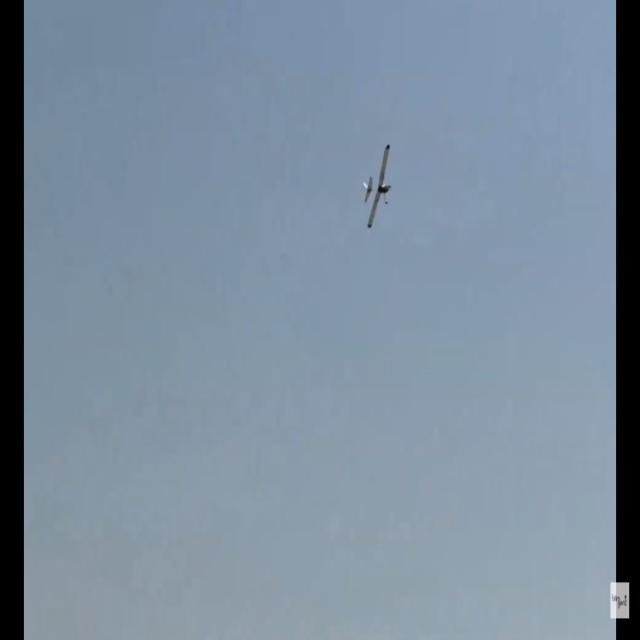iha: (359, 173, 392, 198)
